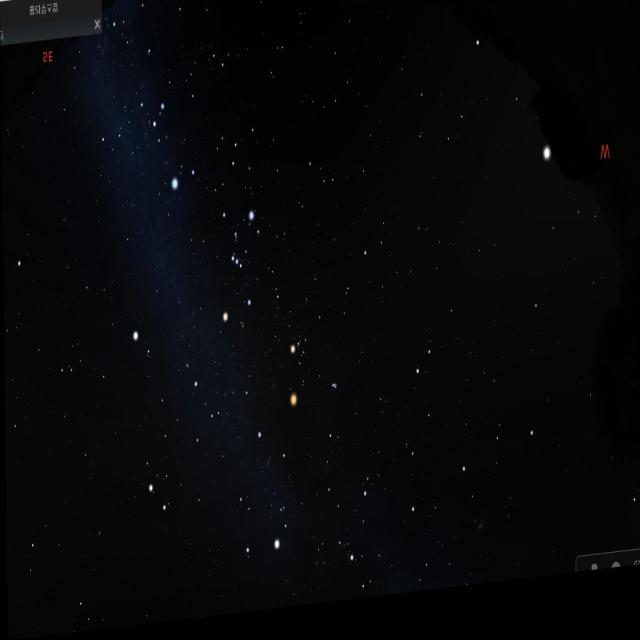canis_major: (141, 98, 198, 200)
canis_minor: (129, 325, 158, 368)
gemini: (142, 370, 228, 529)
orion: (213, 207, 261, 323)
pleiades: (328, 383, 338, 404)
taurus: (278, 298, 346, 411)
